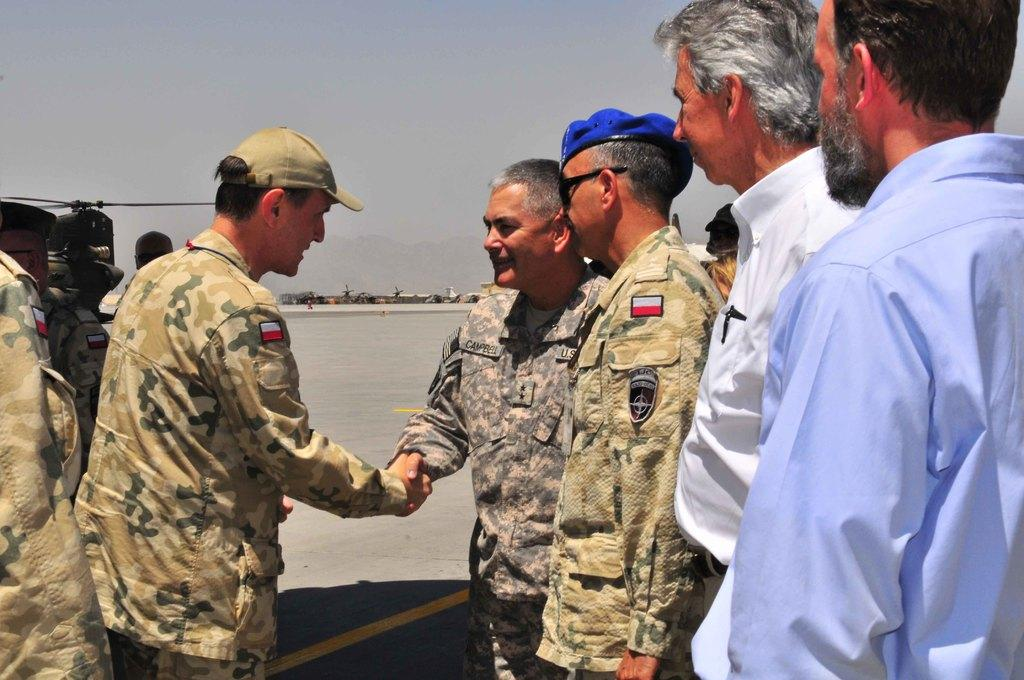Hat: (214, 124, 362, 212)
